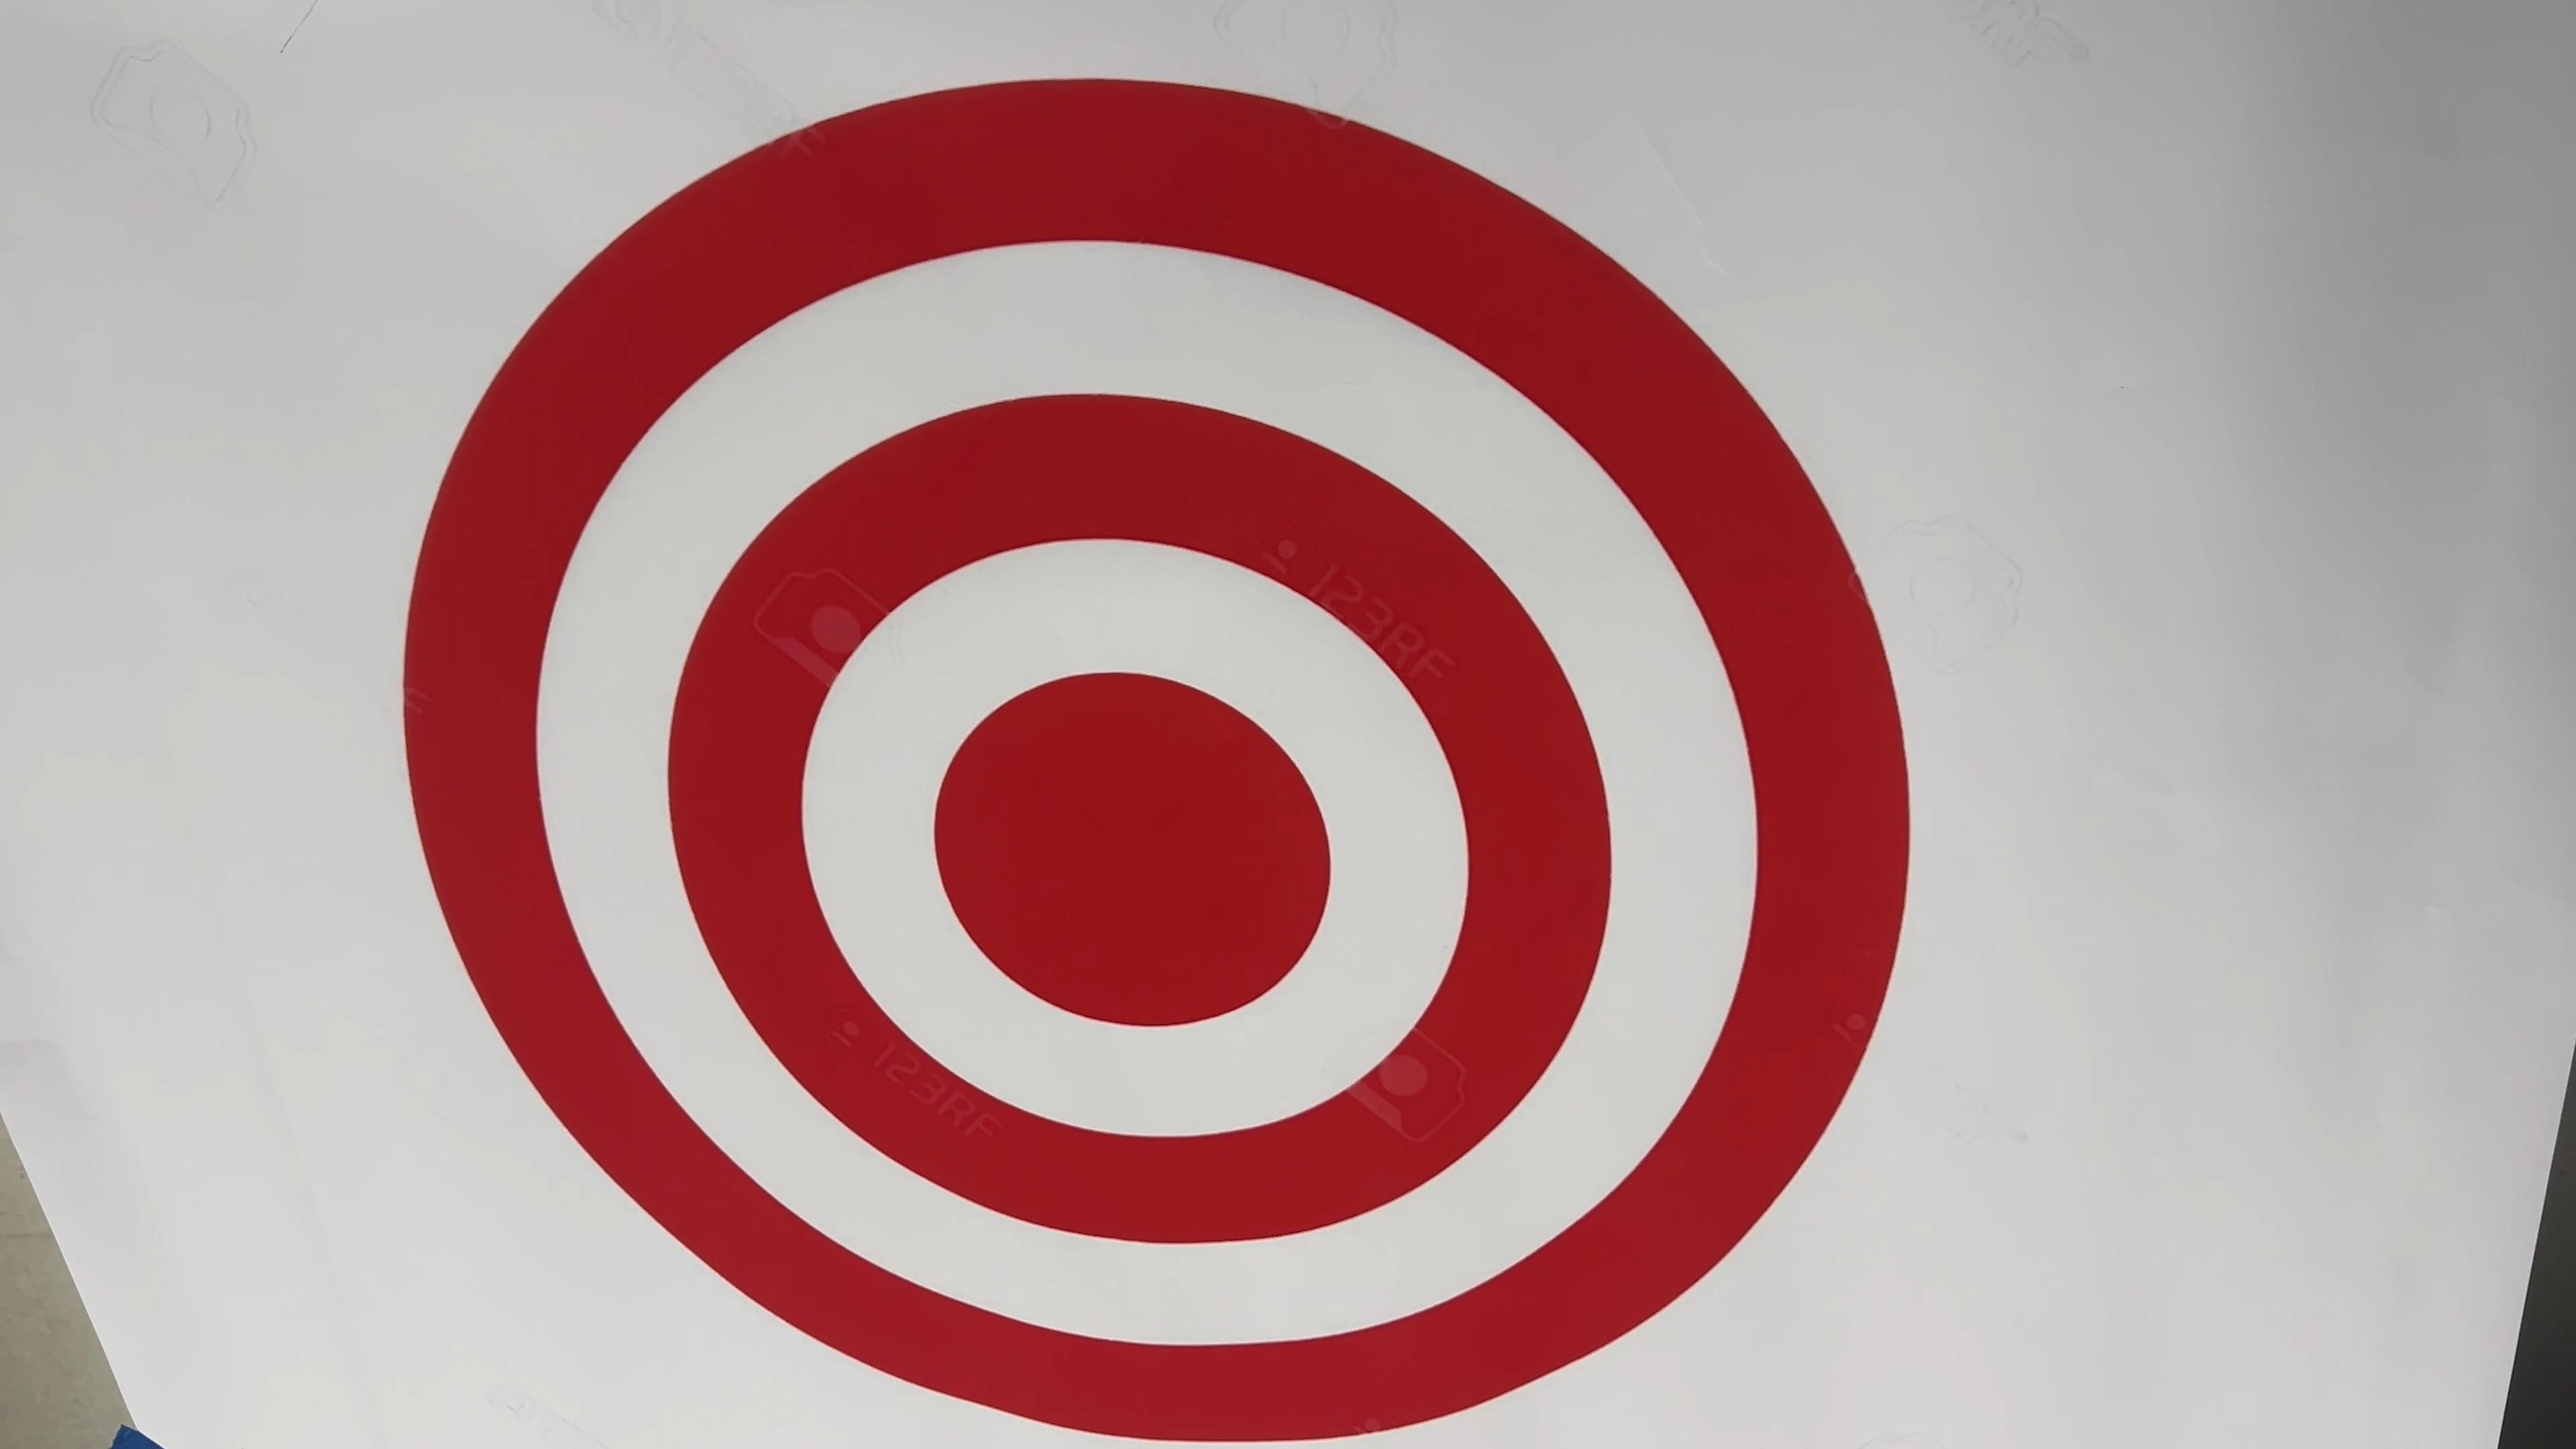target_red: (313, 44, 1943, 1449)
